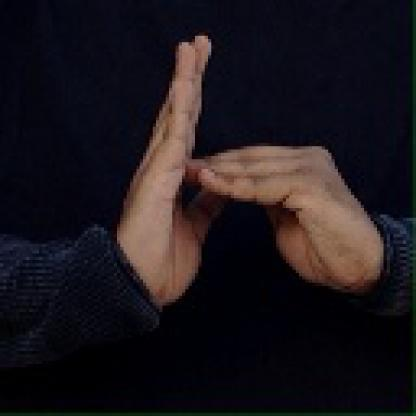Z: (114, 29, 376, 310)
